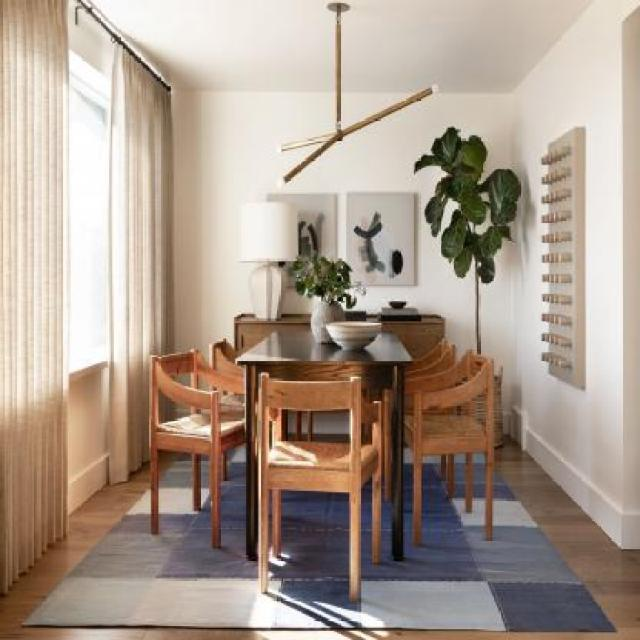floor: (2, 439, 640, 640), (231, 439, 247, 463)
